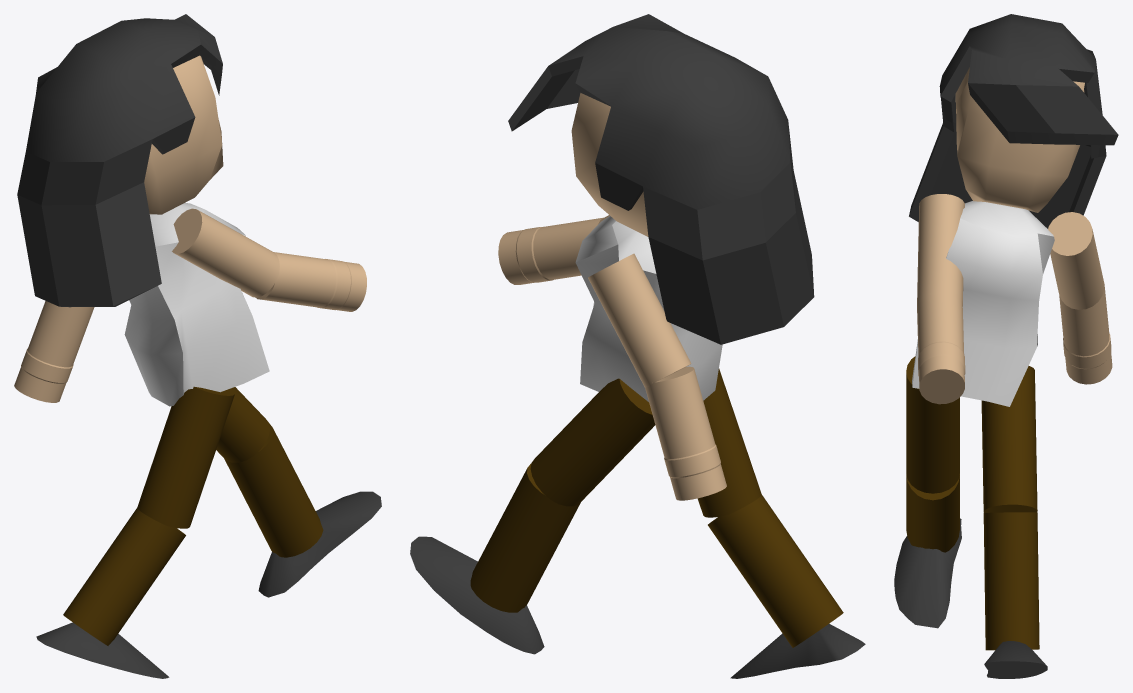
File: CoolPerson_Walk_Chr.fbx
3 renders of one model, left to right at view 1: azimuth 30°, elevation 25°; view 2: azimuth 150°, elevation 25°; view 3: azimuth 270°, elevation 25°, orthographic. The views are drawn at different scales.
Visible parts, largest first — view 1: polySurface17, polySurface5, pCylinder1, pCylinder3, polySurface16, pCylinder4, pCylinder5, pCone2, pCone1, polySurface11, polySurface8, pCylinder2 (+4 smaller); view 2: polySurface17, pCylinder3, polySurface5, pCylinder2, pCylinder4, pCylinder8, pCone2, polySurface8, pCylinder1, polySurface16, pCone1, polySurface11 (+4 smaller); view 3: polySurface17, polySurface5, polySurface16, pCylinder4, pCylinder2, pCylinder1, pCone1, pCylinder8, pCylinder5, pCylinder3, polySurface11, polySurface8 (+5 smaller).
Boxes of the visible parts, bbox=[...] form: polySurface17: bbox=[17, 14, 222, 307]; polySurface5: bbox=[124, 203, 269, 406]; pCylinder1: bbox=[137, 386, 234, 528]; pCylinder3: bbox=[63, 508, 185, 645]; polySurface16: bbox=[144, 55, 223, 214]; pCylinder4: bbox=[224, 423, 323, 557]; pCylinder5: bbox=[172, 208, 279, 297]; pCone2: bbox=[258, 491, 381, 597]; pCone1: bbox=[36, 622, 169, 678]; polySurface11: bbox=[256, 252, 336, 307]; polySurface8: bbox=[27, 301, 94, 367]; pCylinder2: bbox=[216, 387, 269, 462]; polySurface17: bbox=[508, 14, 814, 344]; pCylinder3: bbox=[708, 494, 843, 647]; polySurface5: bbox=[575, 216, 722, 401]; pCylinder2: bbox=[530, 378, 655, 506]; pCylinder4: bbox=[470, 463, 580, 612]; pCylinder8: bbox=[588, 253, 691, 387]; pCone2: bbox=[410, 536, 544, 654]; polySurface8: bbox=[645, 366, 715, 458]; pCylinder1: bbox=[697, 368, 761, 517]; polySurface16: bbox=[571, 93, 648, 236]; pCone1: bbox=[730, 623, 865, 678]; polySurface11: bbox=[533, 217, 603, 279]; polySurface17: bbox=[909, 14, 1118, 228]; polySurface5: bbox=[912, 201, 1054, 406]; polySurface16: bbox=[955, 67, 1084, 212]; pCylinder4: bbox=[983, 512, 1039, 650]; pCylinder2: bbox=[981, 366, 1037, 512]; pCylinder1: bbox=[906, 356, 959, 493]; pCone1: bbox=[894, 518, 961, 628]; pCylinder8: bbox=[1048, 212, 1104, 309]; pCylinder5: bbox=[917, 194, 964, 306]; pCylinder3: bbox=[906, 474, 959, 552]; polySurface11: bbox=[917, 292, 964, 356]; polySurface8: bbox=[1059, 282, 1109, 356].
Size of the model in its own units: 3.04 by 4.77 by 1.58.
